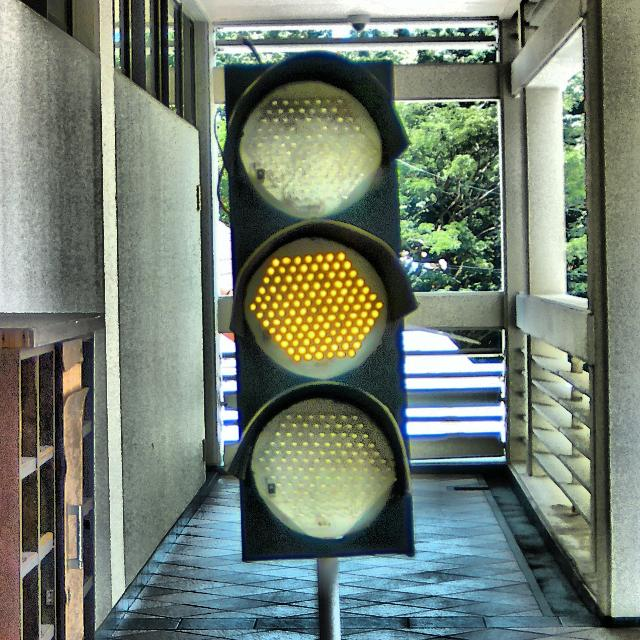yellow: (219, 53, 416, 562)
